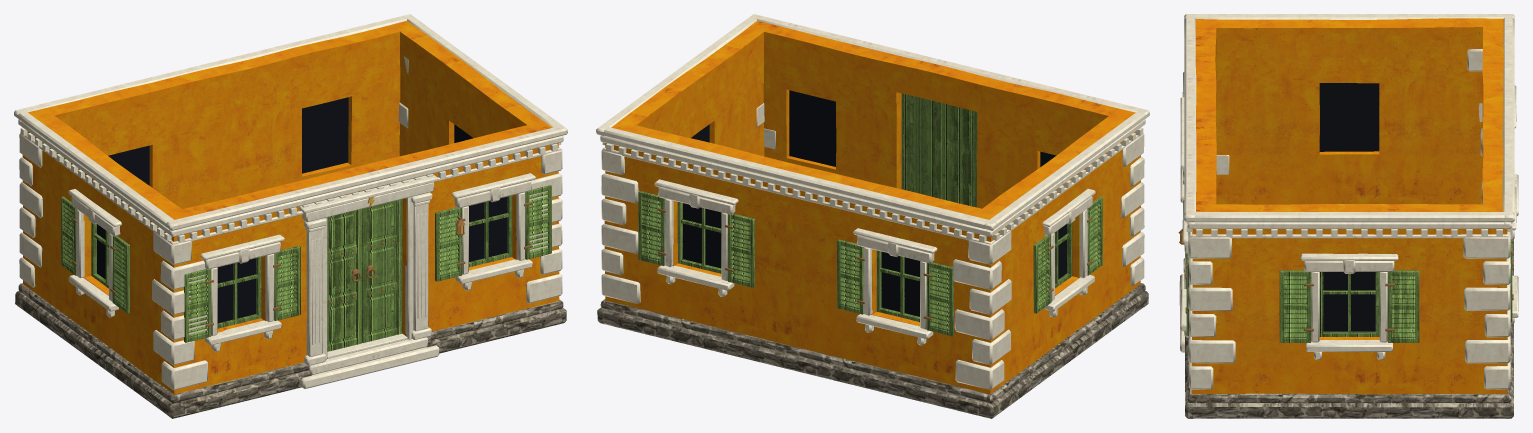
File: home_villa-walls_t2_ochre.glb
3 views of the same model, side by side, from view 1: azimuth 30°, elevation 25°; view 2: azimuth 150°, elevation 25°; view 3: azimuth 270°, elevation 25° (orthographic). The views are drawn at different scales.
Visible parts, largest first — view 1: wall, trim, wood, base, interior, bronze; view 2: wall, trim, wood, base, interior; view 3: wall, trim, base, interior, wood.
Boxes of the visible parts, <box> form: wall: <box>22,21,559,394</box>; trim: <box>14,14,567,390</box>; wood: <box>61,185,551,351</box>; base: <box>15,283,566,418</box>; interior: <box>97,97,507,323</box>; bronze: <box>71,202,532,326</box>; wall: <box>604,20,1140,393</box>; trim: <box>596,14,1149,389</box>; wood: <box>638,93,1102,336</box>; base: <box>597,283,1148,418</box>; interior: <box>683,90,1066,316</box>; wall: <box>1191,18,1507,394</box>; trim: <box>1179,14,1518,389</box>; base: <box>1185,239,1513,418</box>; interior: <box>1319,83,1379,331</box>; wood: <box>1186,240,1512,342</box>.
Size of the model in its own units: 6.5 by 3.01 by 4.53.
Materials: 8 (4 with a texture image).
